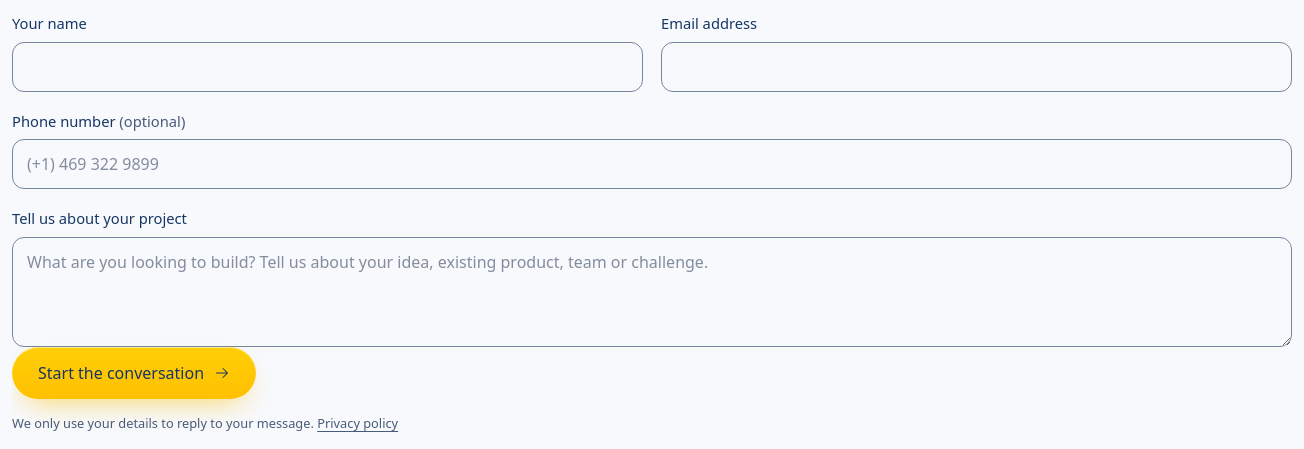
Test case: HomeContactForm › disables the button while sending
In the field with id "c-name": [328, 66] box [12, 42, 643, 92], type "Ana Tran"
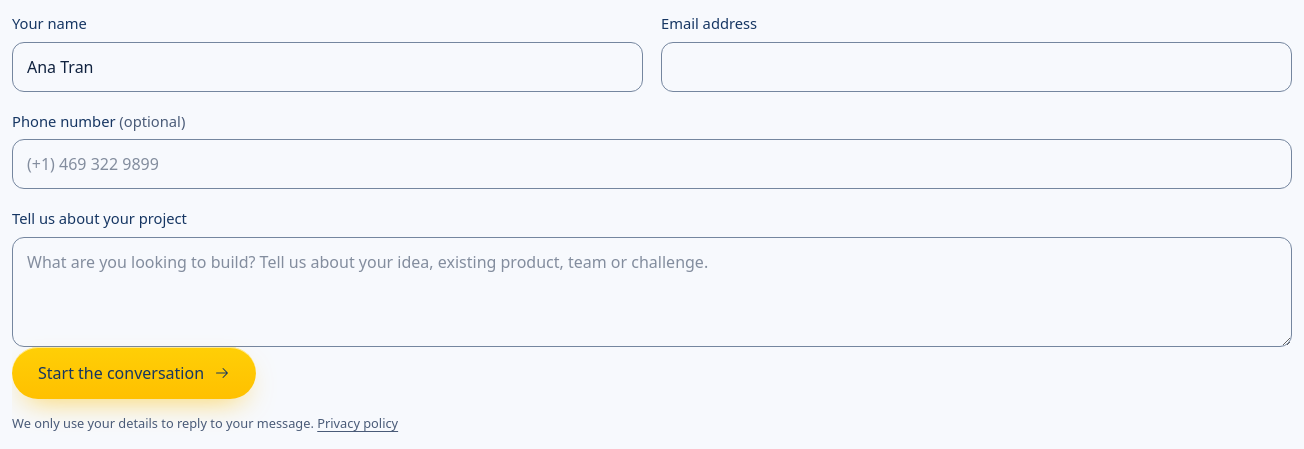
In the field with id "c-email": [976, 66] box [661, 42, 1292, 92], type "ana@gmail.com"
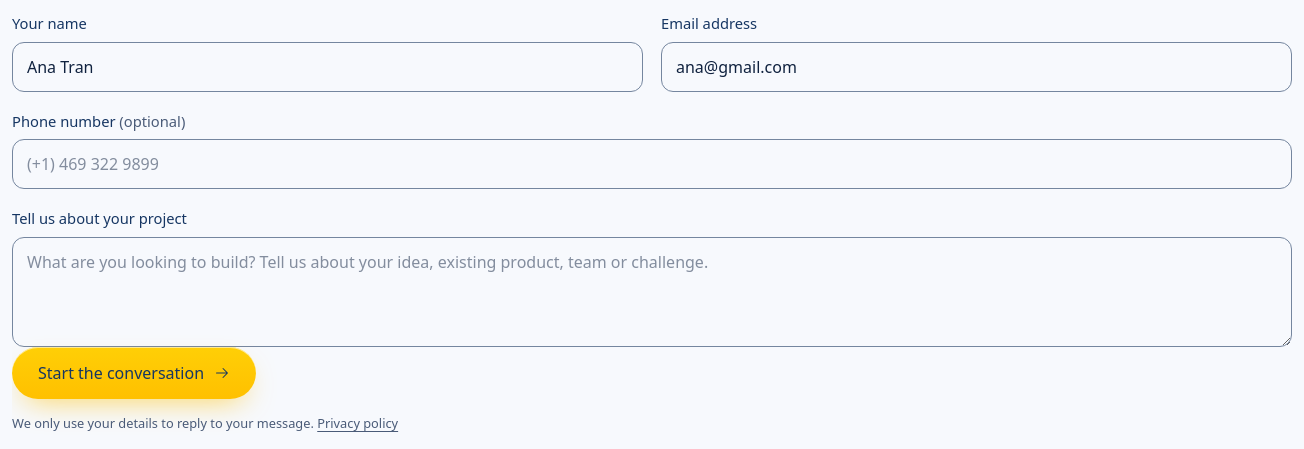
Replace the text in the text box with id "c-msg" with "We want a parent app.": [652, 292] box [12, 237, 1292, 347]
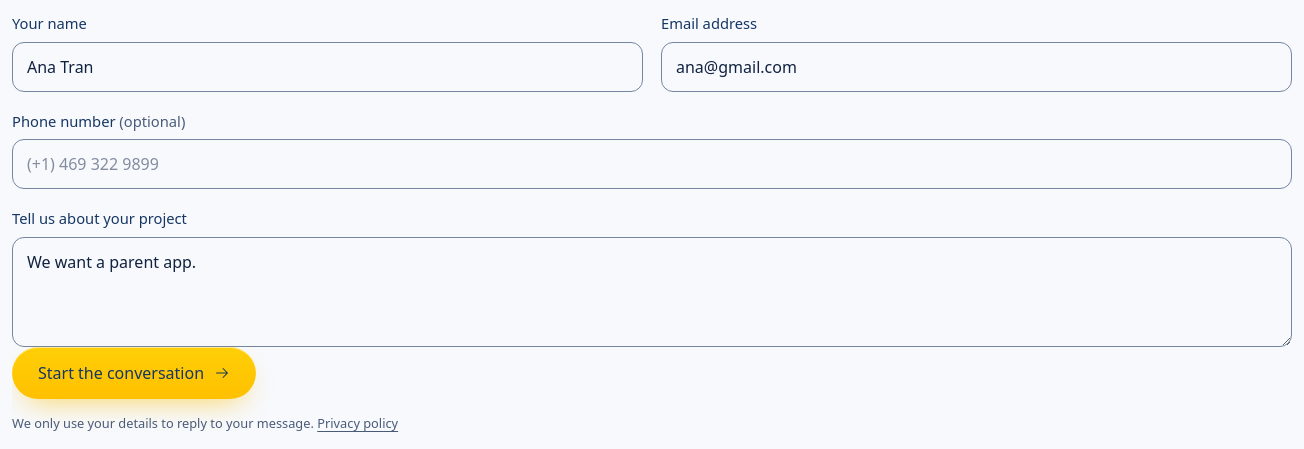
Click the button "Start the conversation": [134, 373] box [12, 347, 256, 399]
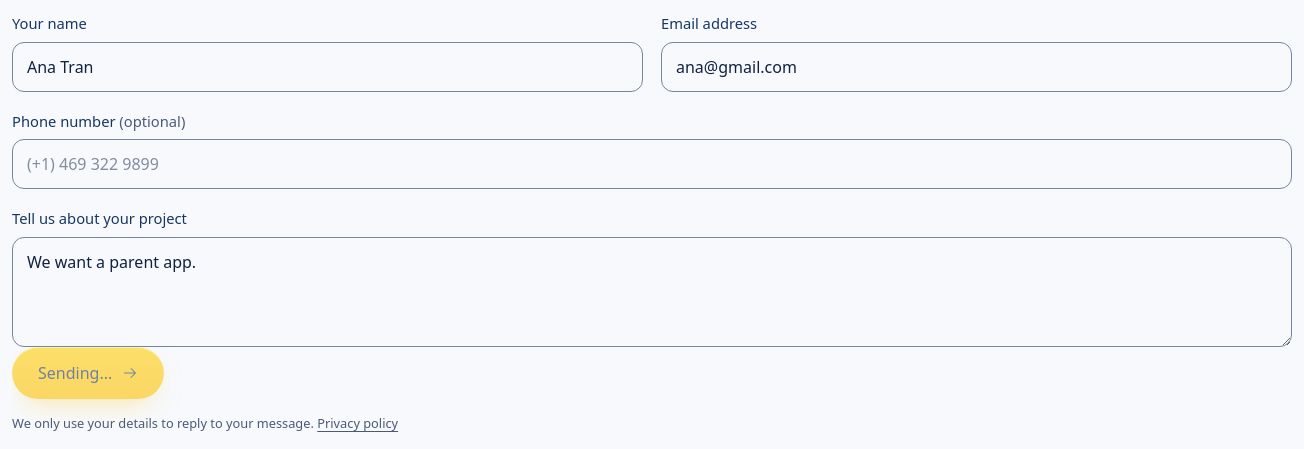
Check: the button "Sending..." is disabled, box [12, 347, 164, 399]
